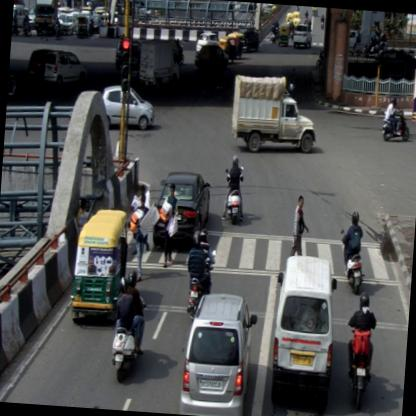car: (268, 255, 340, 411), (180, 292, 261, 415), (152, 171, 212, 251), (98, 83, 156, 134), (41, 50, 88, 90), (294, 23, 314, 48)
motorcycle: (112, 267, 149, 381), (346, 292, 378, 413), (186, 231, 216, 319), (337, 210, 367, 292), (221, 152, 245, 225), (381, 99, 413, 142)
truck: (231, 74, 319, 157), (138, 38, 182, 93), (34, 0, 59, 40)
